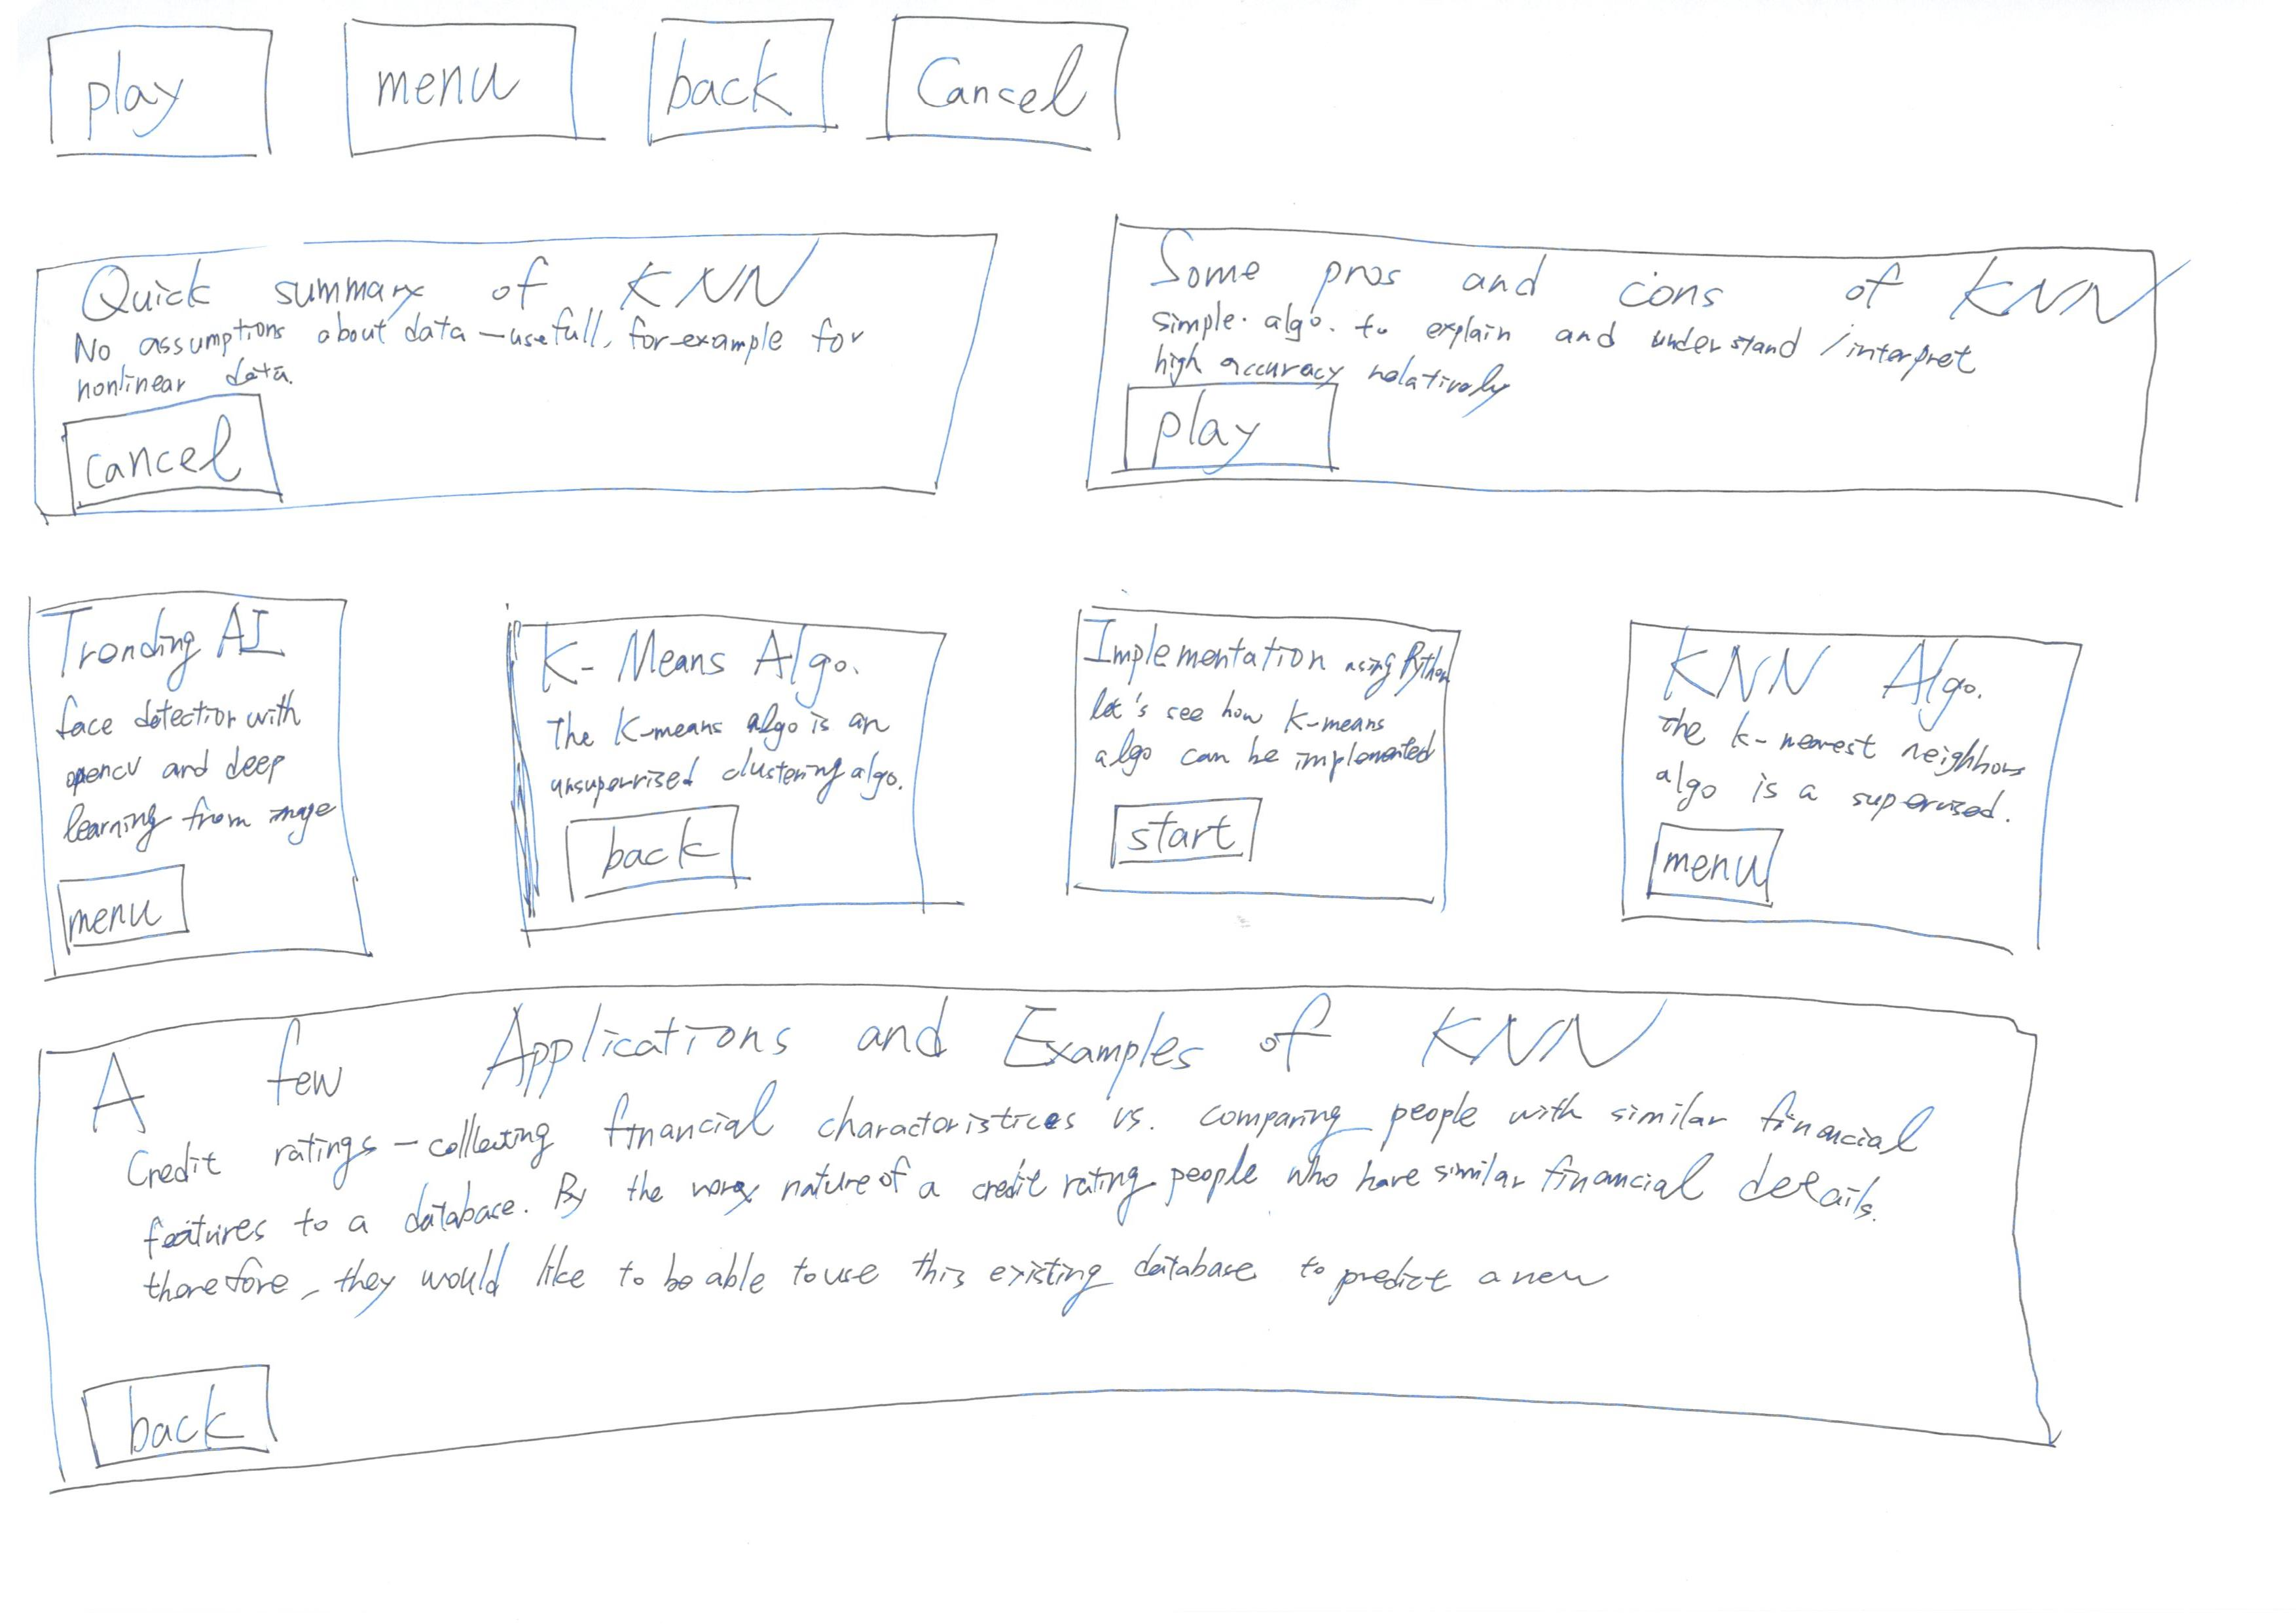back: (631, 0, 861, 156), (63, 1345, 308, 1478), (538, 801, 767, 907)
cancel: (35, 387, 309, 531)
double: (1051, 195, 2271, 557), (0, 197, 1020, 540)
menu: (341, 0, 621, 162), (1628, 819, 1809, 933), (56, 861, 227, 974)
play: (26, 7, 302, 174), (1099, 373, 1375, 499)
quadruple: (471, 580, 997, 974), (1035, 585, 1561, 979), (1593, 585, 2118, 979), (11, 573, 425, 988)
row: (4, 981, 2250, 1503), (2, 548, 2296, 1032), (11, 176, 2296, 557), (7, 0, 2296, 181)
single: (23, 982, 2133, 1517)
small-title: (98, 1011, 1653, 1127), (1132, 232, 2152, 322), (56, 241, 849, 316), (524, 613, 860, 698), (1675, 636, 1988, 721), (1095, 629, 1431, 696), (60, 608, 308, 691)
start: (1094, 787, 1324, 898)
text: (105, 1104, 1922, 1290), (1152, 302, 2025, 402), (44, 322, 877, 394), (549, 685, 904, 821), (1656, 708, 2039, 826), (69, 700, 336, 858), (1083, 685, 1433, 786)
